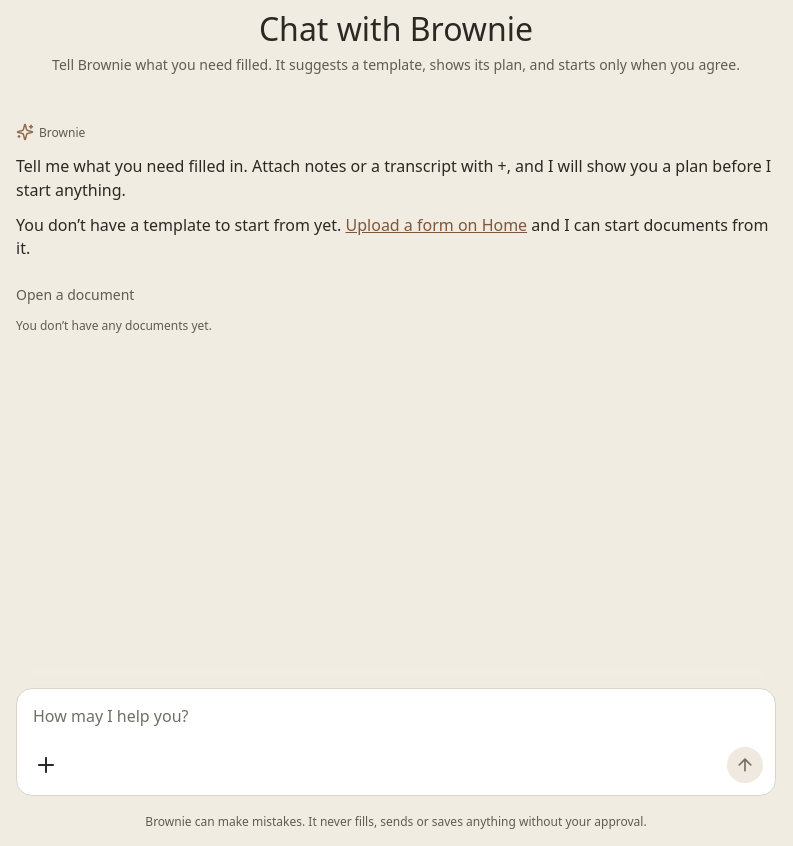
Test: ChatView › Brownie's plan › says so, and links to Home, when there is no template to plan with, and makes nothing
The image size is (793, 846).
Type "Make minutes" into the text box with id "chat-composer".
click(396, 716); type("Make minutes")  # box [29, 705, 763, 728]
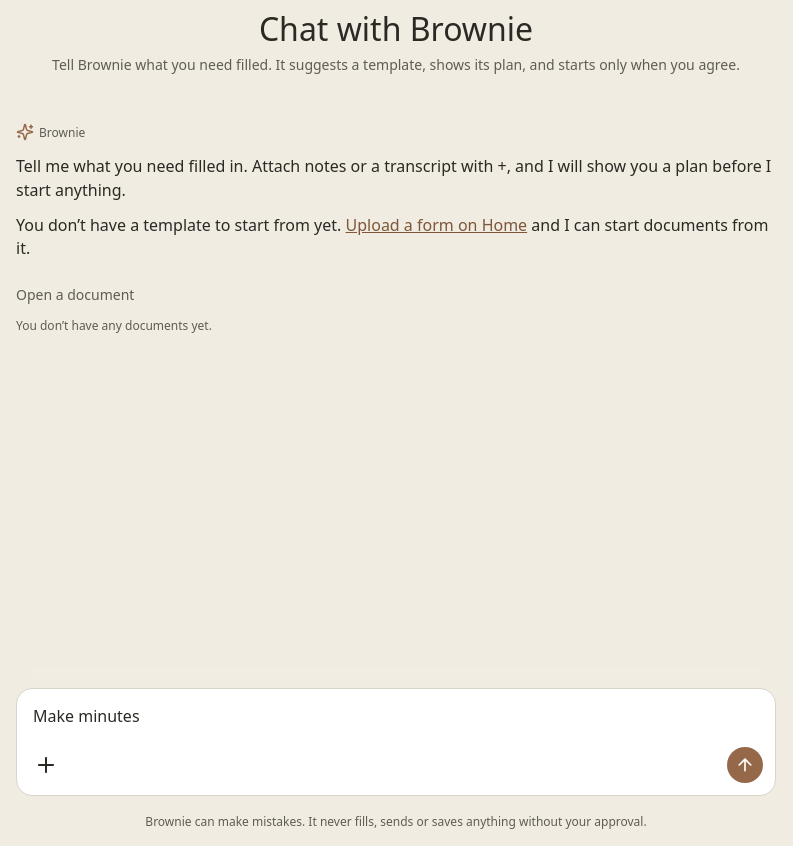
Submit the form with class "composer", box [16, 688, 776, 796]
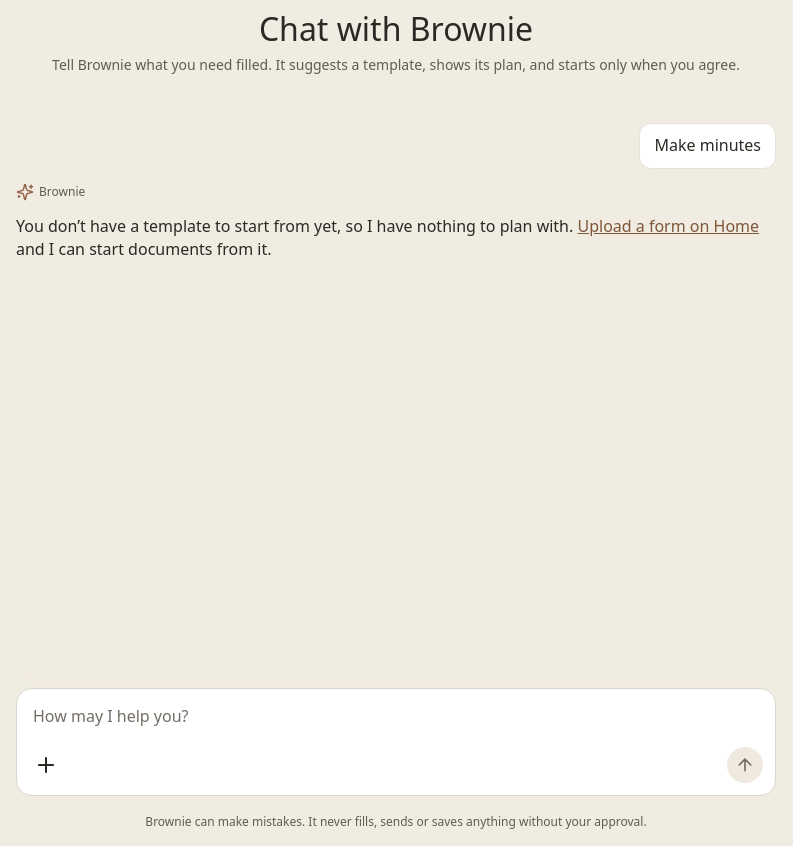
Expected: the link to "/" reads "Upload a form on Home", [578, 215, 759, 237]
Now the element with class "chat__log" shows "You don’t have a template to start from yet, so I have nothing to plan with.", box [16, 215, 578, 237]
